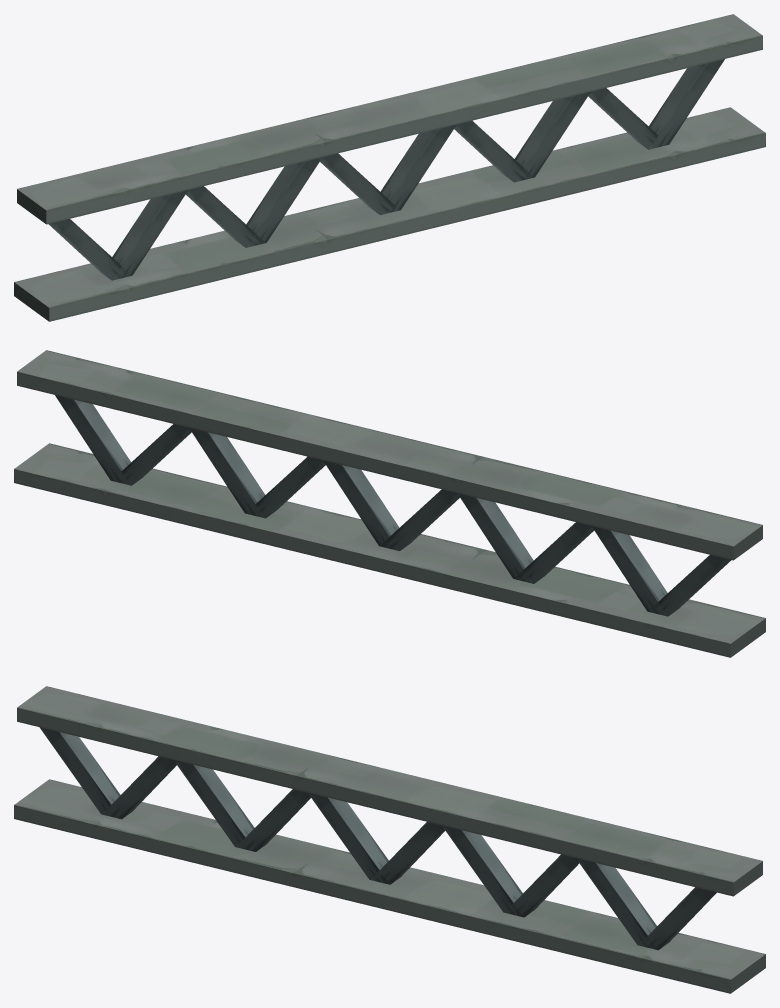
The model's file is Dg_01_rail_003.FBX.
3 views of the same model, one above another, from view 1: azimuth 30°, elevation 25°; view 2: azimuth 150°, elevation 25°; view 3: azimuth 330°, elevation 25° (orthographic).
Visible parts, largest first — view 1: Dg_01_rail_003; view 2: Dg_01_rail_003; view 3: Dg_01_rail_003.
Part boxes in pixels (x1,y1,x2,y2): Dg_01_rail_003: (14,14,765,321); Dg_01_rail_003: (14,350,765,657); Dg_01_rail_003: (14,686,765,993).
Bounding box in the file's own units: 5 × 0.728 × 0.4268.
